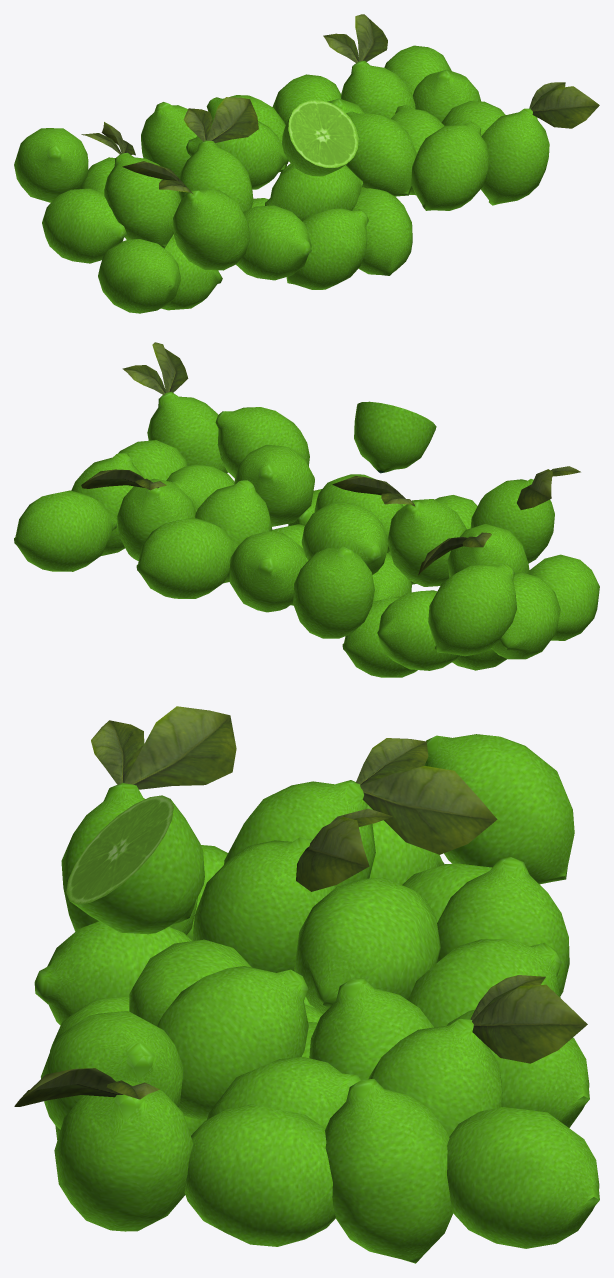
Rendered from lime_lowpoly.fbx.
3 renders of one model, top to bottom at view 1: azimuth 30°, elevation 25°; view 2: azimuth 150°, elevation 25°; view 3: azimuth 270°, elevation 25°, orthographic. The views are drawn at different scales.
Visible parts, largest first — view 1: lime_lowpoly; view 2: lime_lowpoly; view 3: lime_lowpoly.
Part boxes in pixels (box(x1,y1,x2,y2)): lime_lowpoly: box(14, 14, 599, 313); lime_lowpoly: box(14, 342, 599, 677); lime_lowpoly: box(14, 706, 599, 1263).
Size of the model in its own units: 112 by 46.24 by 66.4.
